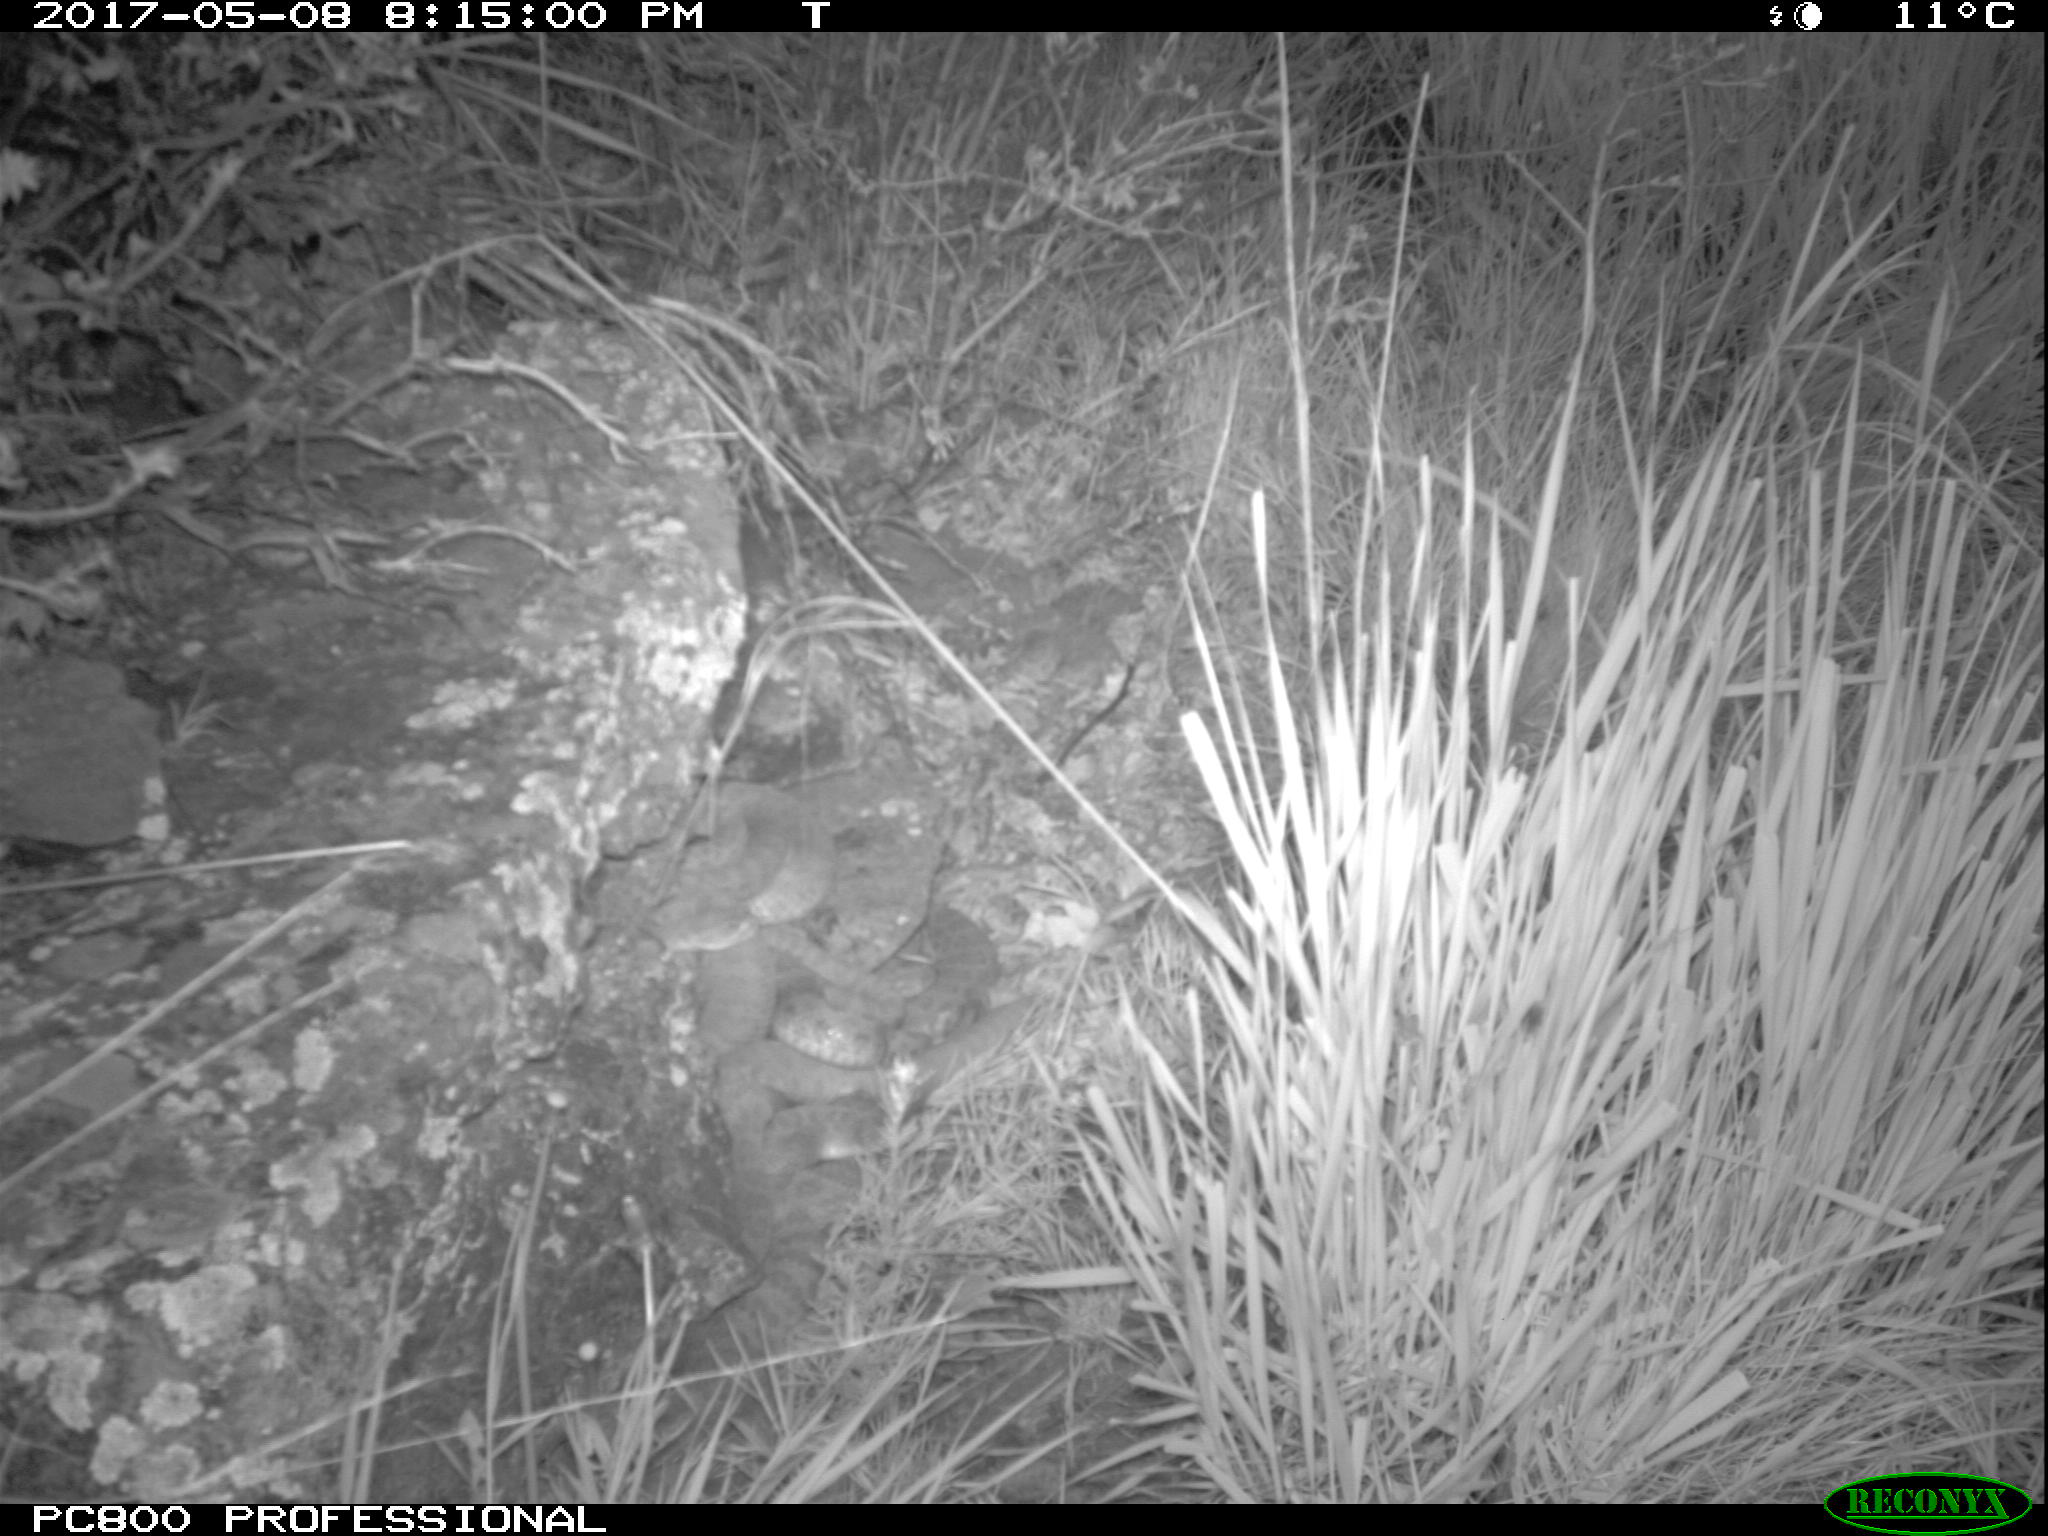snake: (684, 954, 897, 1221), (650, 776, 848, 945)
